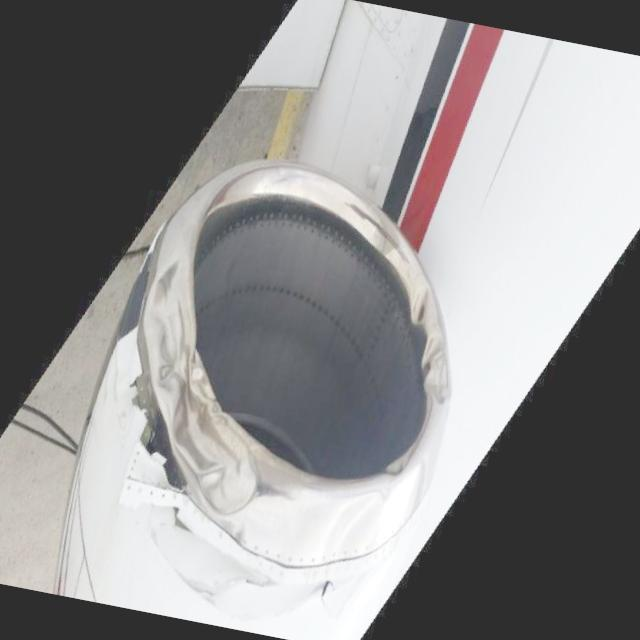dent: (112, 278, 298, 522), (414, 329, 462, 409), (408, 288, 434, 324)
